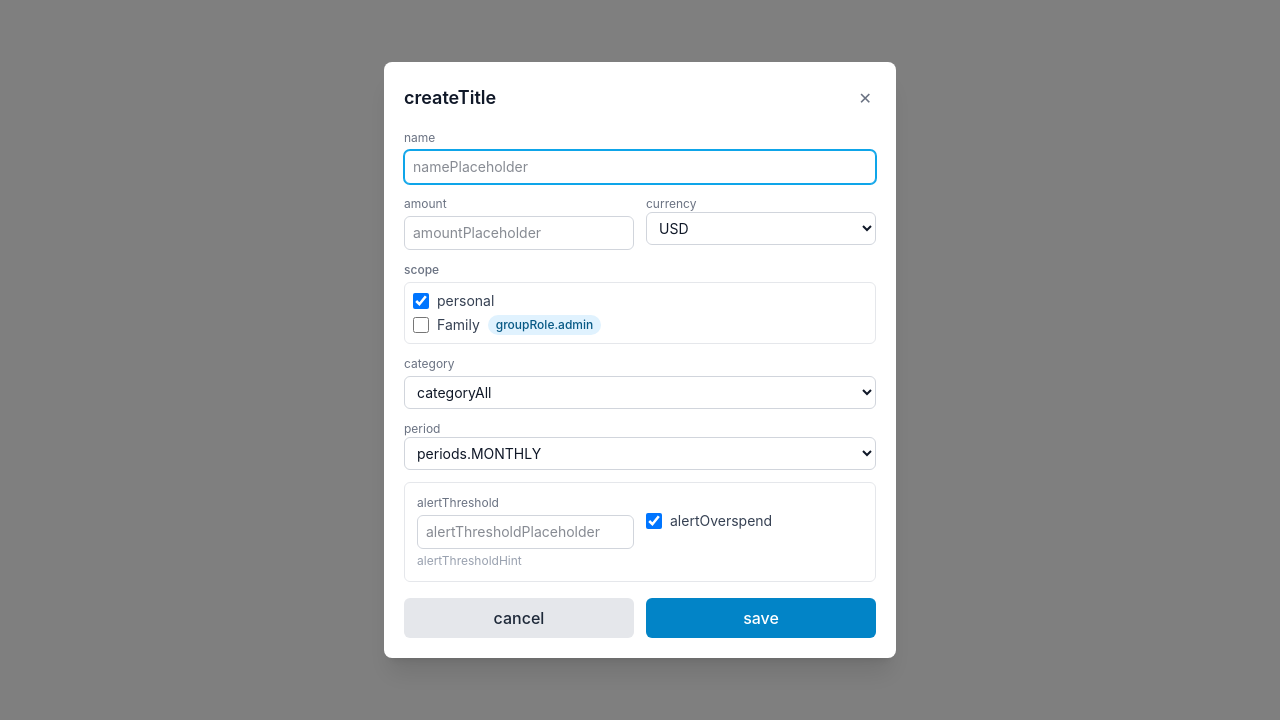
Test case: BudgetFormDialog › validation: amount must be greater than zero
The width and height of the screenshot is (1280, 720).
Type "X" into the field with test id "budget-form-name" at [640, 167], box [404, 150, 876, 184]
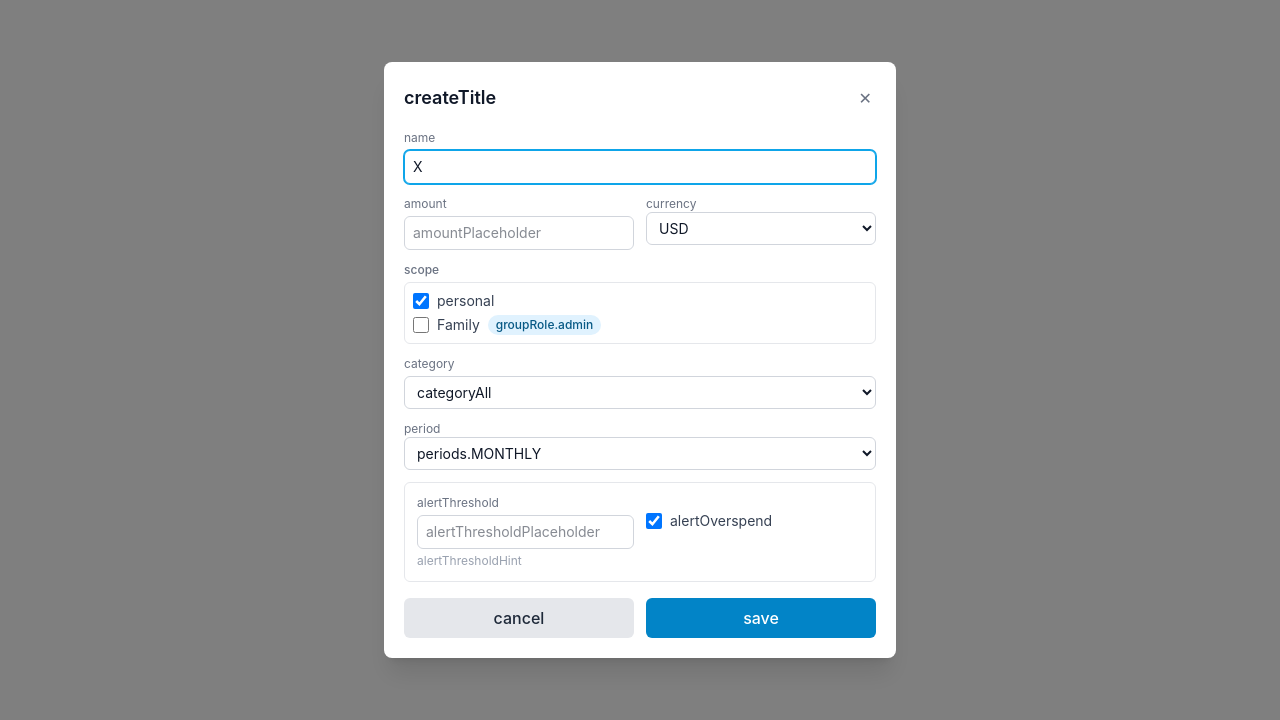
Type "0" into the field with test id "budget-form-amount" at [519, 233], box [404, 216, 634, 250]
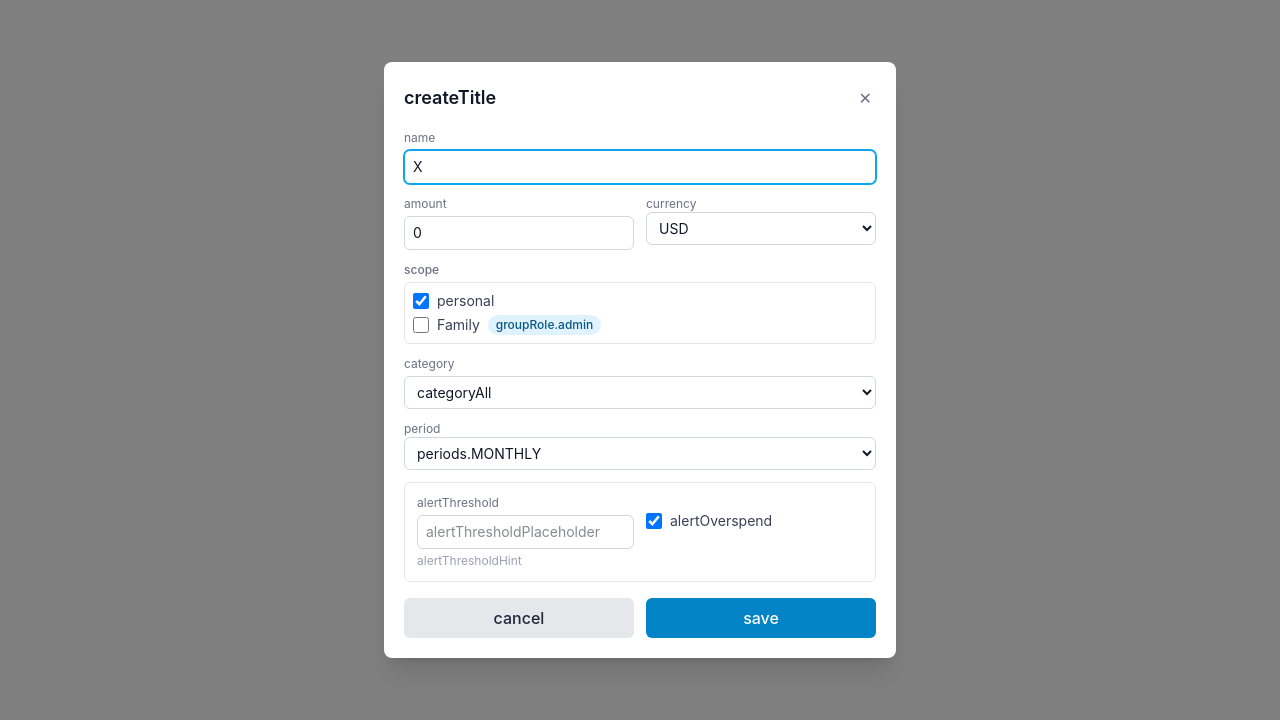
Click the button with test id "budget-form-save" at [761, 618], box [646, 598, 876, 638]
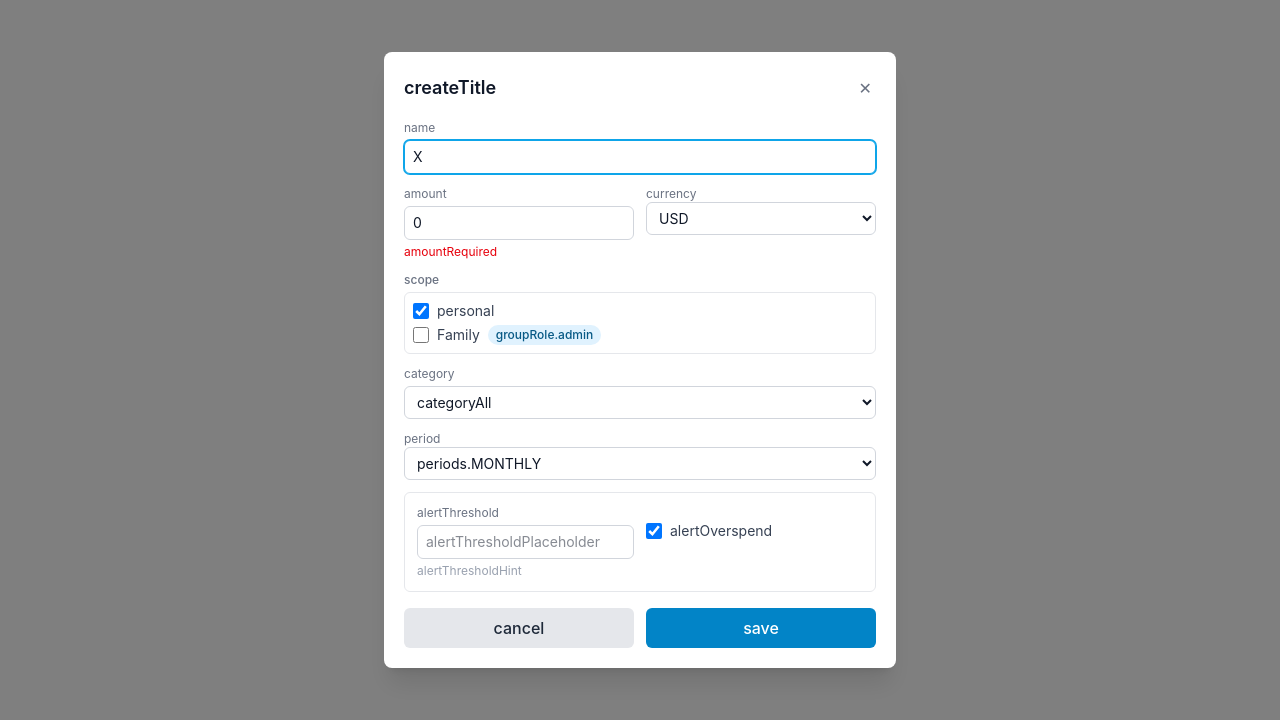
Result: the text "amountRequired" is shown at [404, 244, 497, 259]
